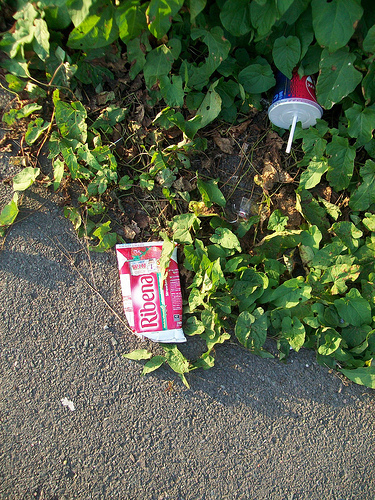litter: (114, 243, 185, 344), (267, 74, 322, 127), (285, 125, 294, 152)
